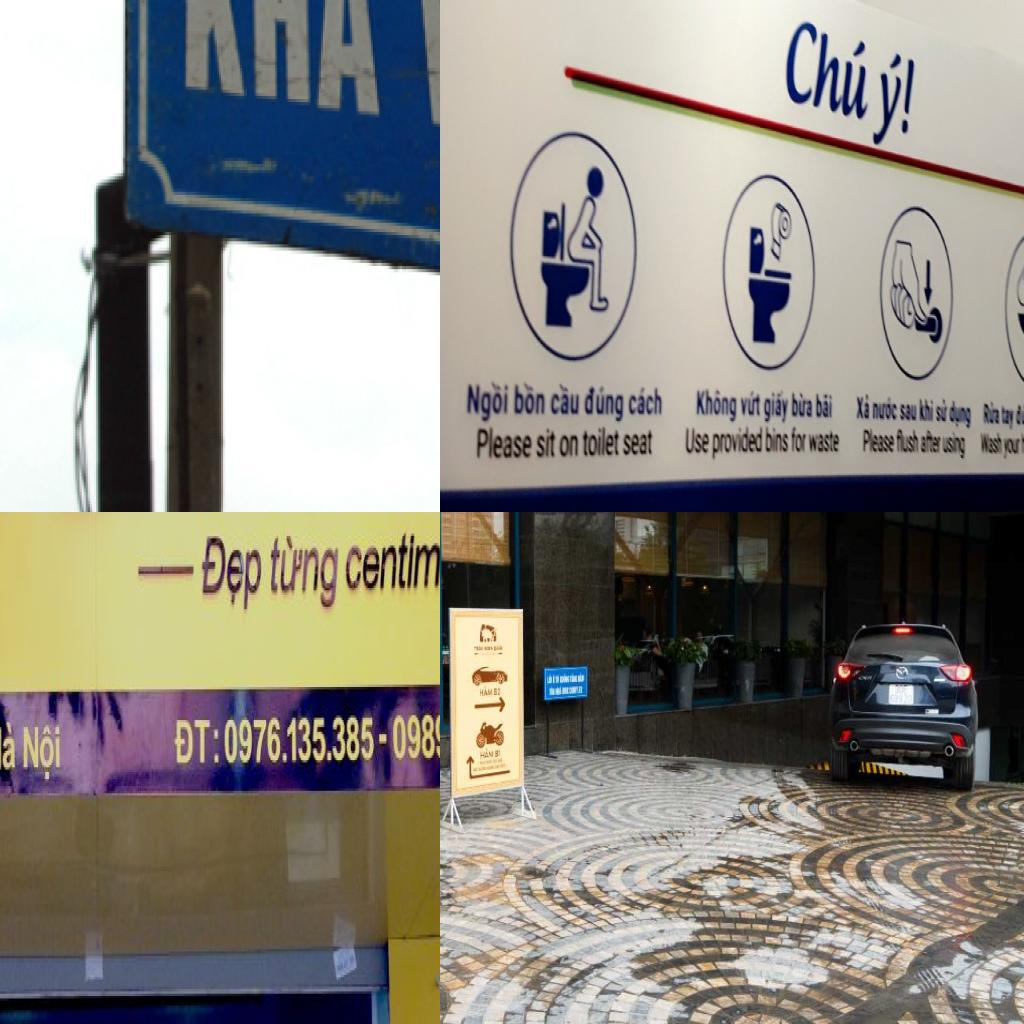text: (181, 0, 385, 123), (784, 10, 873, 127), (346, 517, 440, 609), (225, 711, 377, 767), (268, 527, 342, 616), (197, 527, 265, 623), (870, 47, 916, 154), (392, 705, 440, 769), (171, 713, 223, 772), (21, 715, 62, 784), (474, 425, 532, 461), (465, 378, 509, 422), (583, 382, 626, 426), (711, 429, 764, 461), (694, 387, 738, 425), (582, 425, 620, 458), (548, 382, 580, 420), (626, 384, 662, 417), (514, 383, 546, 418), (762, 388, 790, 427), (0, 713, 16, 779), (861, 425, 895, 455), (808, 428, 842, 457), (622, 431, 654, 458), (948, 398, 972, 434), (684, 425, 710, 458), (790, 388, 814, 420), (942, 434, 966, 464), (764, 428, 790, 455), (534, 428, 556, 458), (740, 388, 762, 418), (814, 391, 835, 421), (872, 397, 898, 421), (895, 431, 921, 455), (853, 391, 872, 423), (979, 432, 1004, 456), (790, 424, 808, 455), (557, 434, 579, 458), (921, 432, 943, 456), (1000, 404, 1016, 434), (918, 394, 935, 422), (983, 401, 1001, 427), (900, 398, 918, 421), (1003, 438, 1021, 459), (936, 397, 949, 422), (1016, 401, 1024, 435), (377, 727, 388, 751), (890, 694, 913, 704), (480, 748, 494, 762), (479, 685, 493, 698), (1019, 434, 1024, 461), (899, 684, 909, 695), (494, 688, 502, 697), (495, 749, 502, 758), (546, 676, 550, 685)
